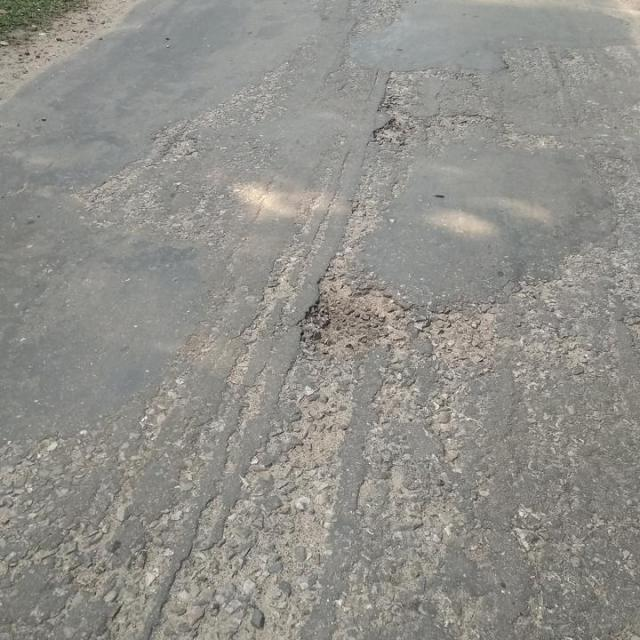Pothole: (297, 279, 413, 356), (372, 117, 410, 150)
